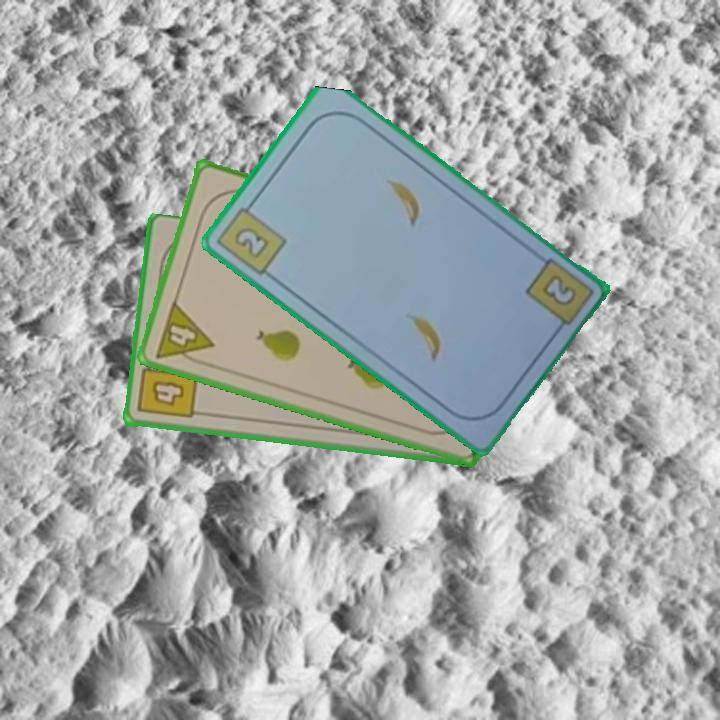2b: (213, 195, 290, 279), (537, 270, 579, 310)
4b: (134, 354, 200, 422)
4p: (151, 297, 217, 370)
